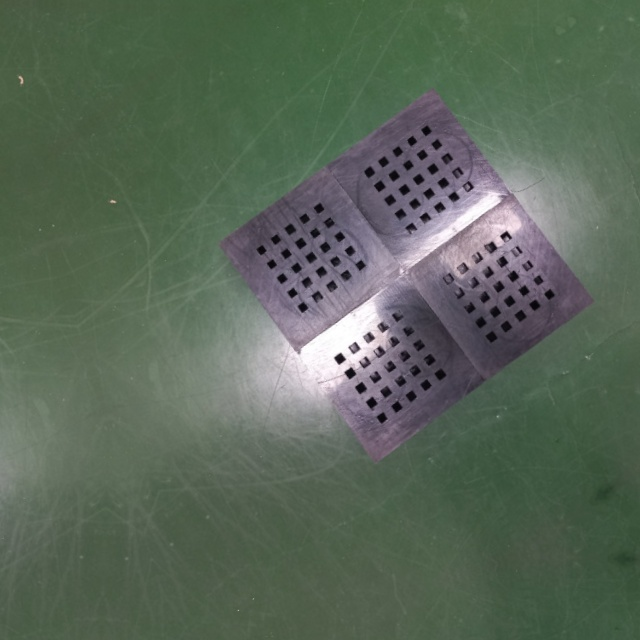pallet: (208, 79, 600, 470)
